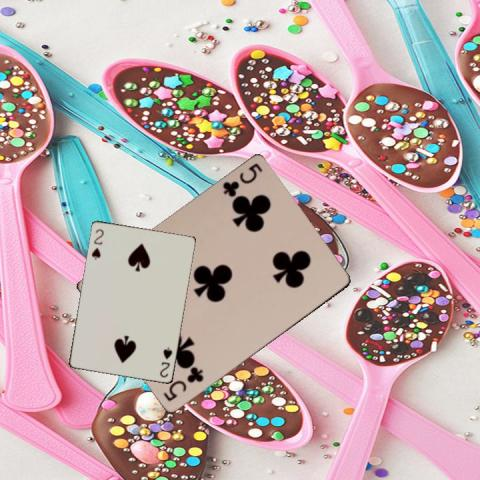2s: (157, 344, 174, 379), (89, 226, 105, 261)
5c: (219, 160, 264, 199), (160, 365, 205, 403)
